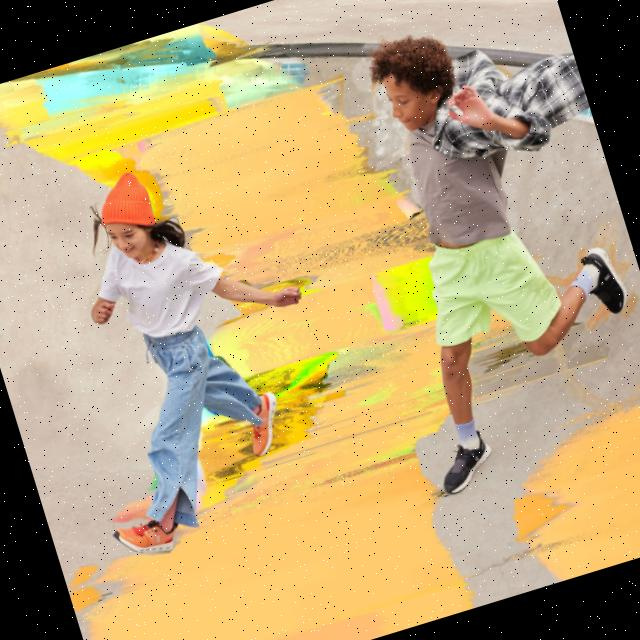Person: (313, 0, 640, 492), (9, 134, 360, 568)
